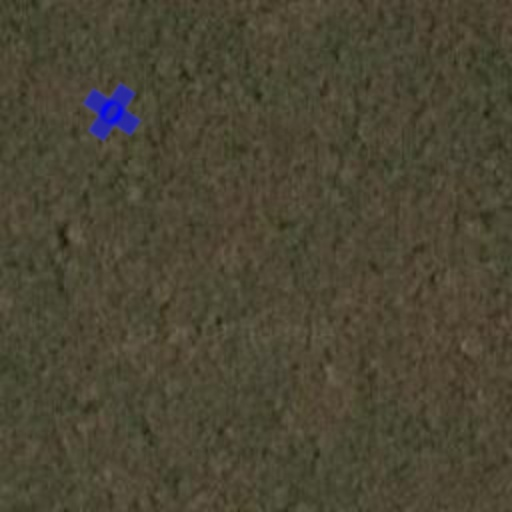cross: (70, 70, 154, 154)
